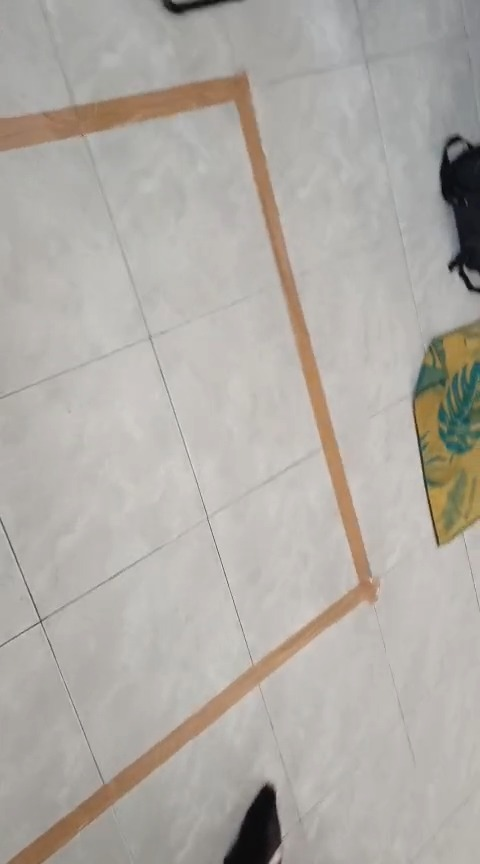floor marking: (0, 75, 378, 863)
